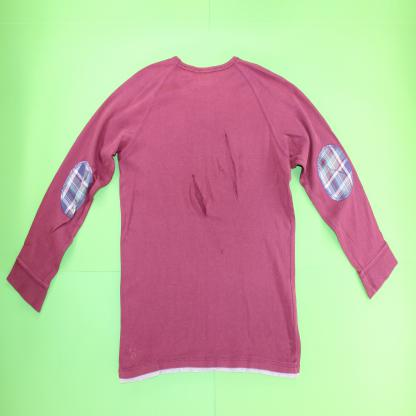hole: (222, 128, 242, 206), (190, 172, 211, 220)
